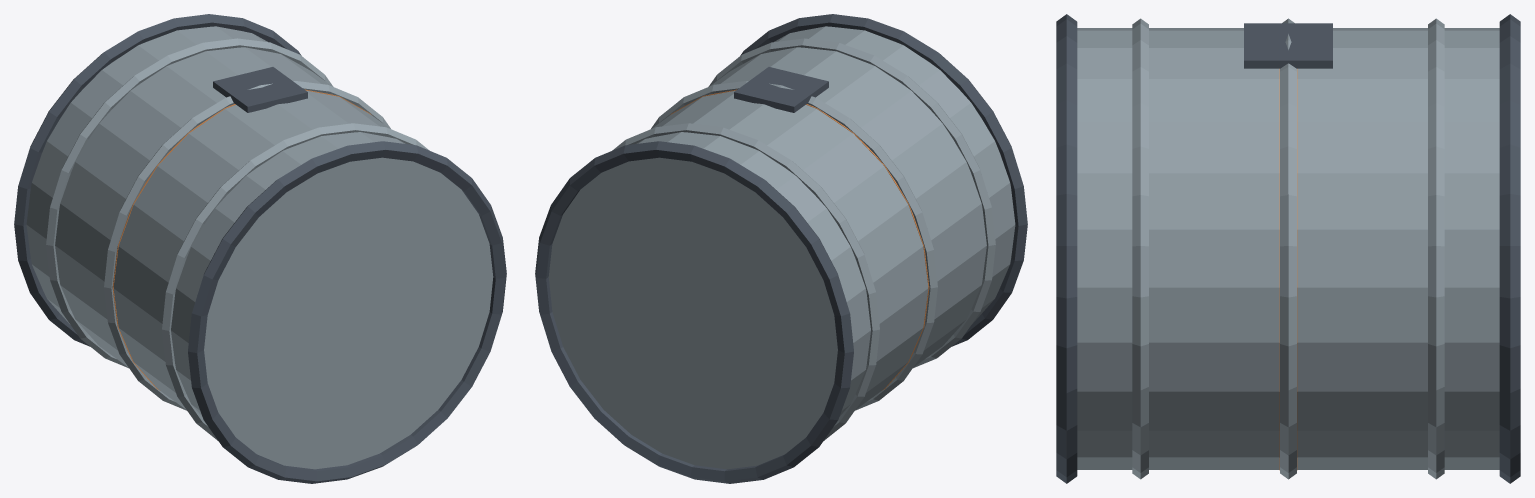
Rendered from sub_hull_mk1.glb.
The picture shows the model from 3 angles, left to right: view 1: azimuth 30°, elevation 25°; view 2: azimuth 150°, elevation 25°; view 3: azimuth 270°, elevation 25°; orthographic projection. The views are drawn at different scales.
Visible parts, largest first — view 1: sub_hull_mk1_hull, sub_hull_mk1_dark, sub_hull_mk1_accent; view 2: sub_hull_mk1_hull, sub_hull_mk1_dark, sub_hull_mk1_accent; view 3: sub_hull_mk1_hull, sub_hull_mk1_dark, sub_hull_mk1_accent.
Part boxes in pixels (x1=…): sub_hull_mk1_hull: x1=26, y1=26, x2=493, y2=469; sub_hull_mk1_dark: x1=14, y1=14, x2=506, y2=483; sub_hull_mk1_accent: x1=112, y1=89, x2=371, y2=390; sub_hull_mk1_hull: x1=548, y1=26, x2=1015, y2=469; sub_hull_mk1_dark: x1=535, y1=14, x2=1027, y2=483; sub_hull_mk1_accent: x1=670, y1=89, x2=929, y2=390; sub_hull_mk1_hull: x1=1077, y1=18, x2=1499, y2=479; sub_hull_mk1_dark: x1=1056, y1=14, x2=1520, y2=483; sub_hull_mk1_accent: x1=1279, y1=69, x2=1297, y2=470.
Size of the model in its own units: 4.24 by 4.24 by 4.19.
